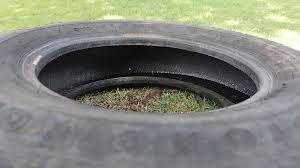tire: (1, 20, 300, 167)
